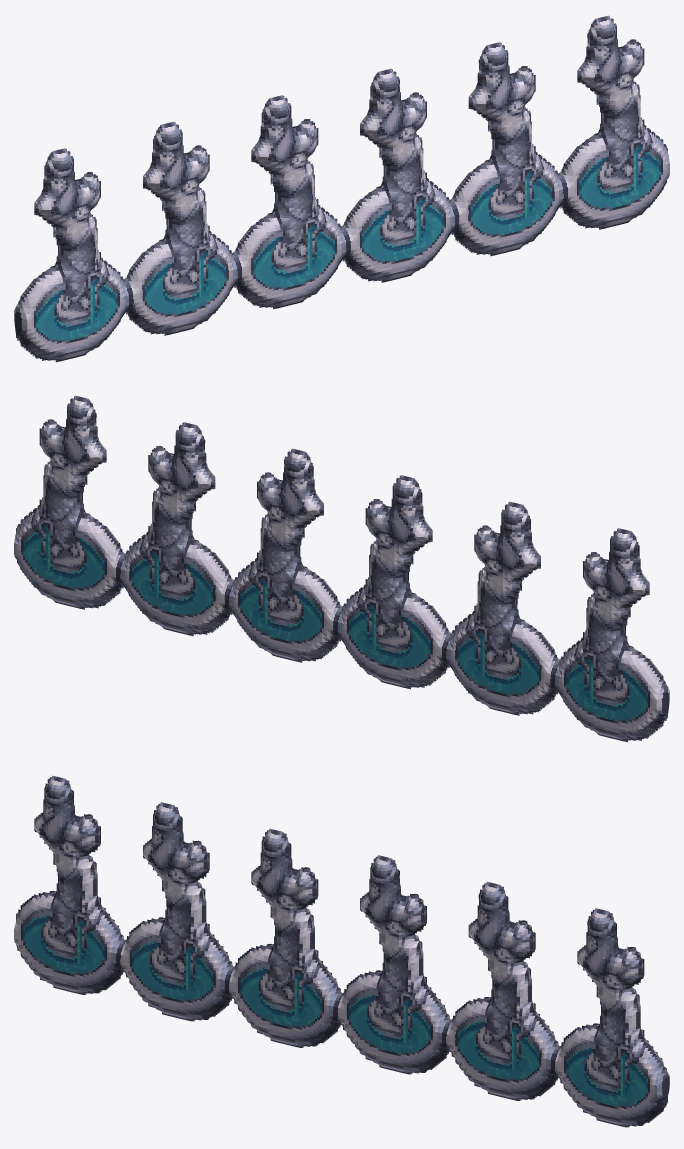
3 renders of one model, top to bottom at view 1: azimuth 30°, elevation 25°; view 2: azimuth 150°, elevation 25°; view 3: azimuth 330°, elevation 25°, orthographic.
Bounding box in the file's own units: 18 × 5.62 × 0.6383.
1 material, 1 textured.
